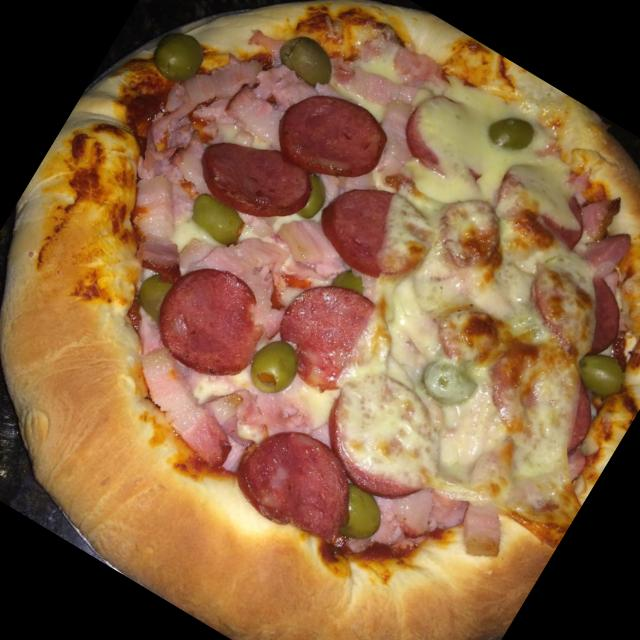pepperoni: (308, 360, 464, 507), (260, 261, 410, 410), (226, 410, 380, 550), (307, 164, 446, 296), (146, 252, 282, 386), (187, 114, 326, 242), (262, 74, 394, 200), (480, 342, 602, 456), (394, 93, 491, 184), (559, 271, 640, 363)
pizza: (0, 0, 640, 640)
